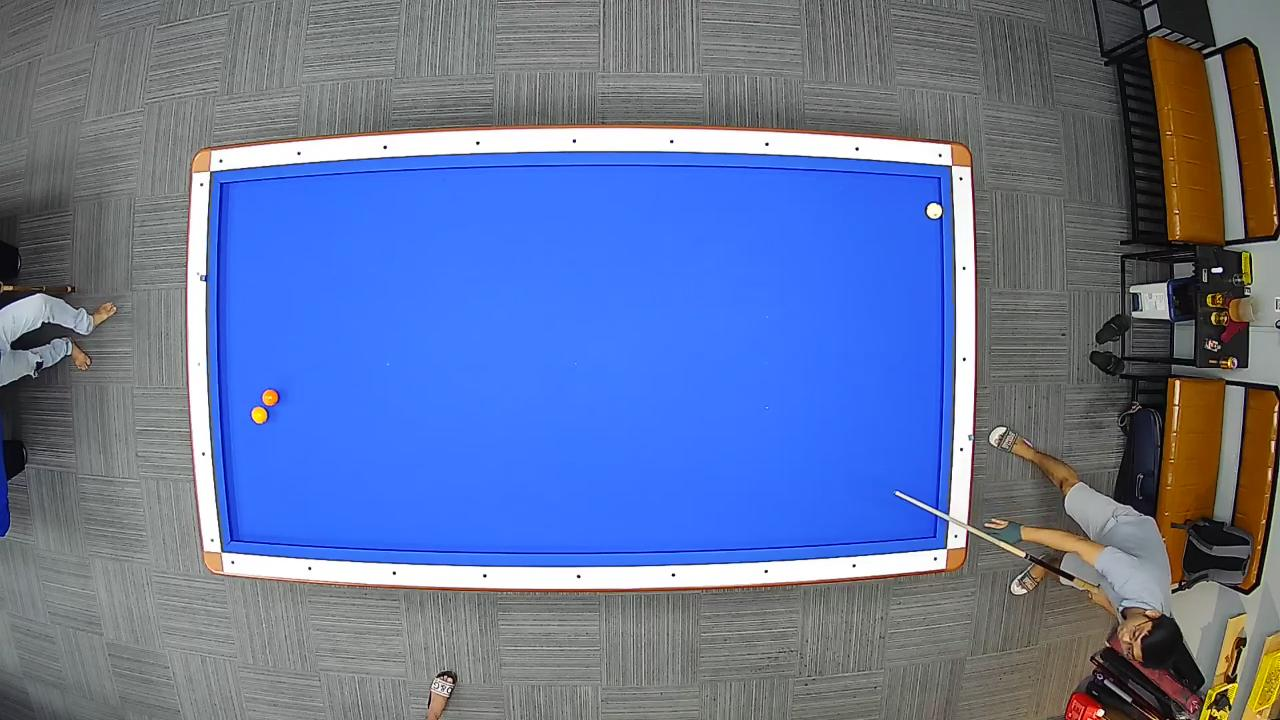Orange: (261, 388, 280, 406)
White: (924, 201, 944, 220)
Yellow: (250, 406, 268, 425)
